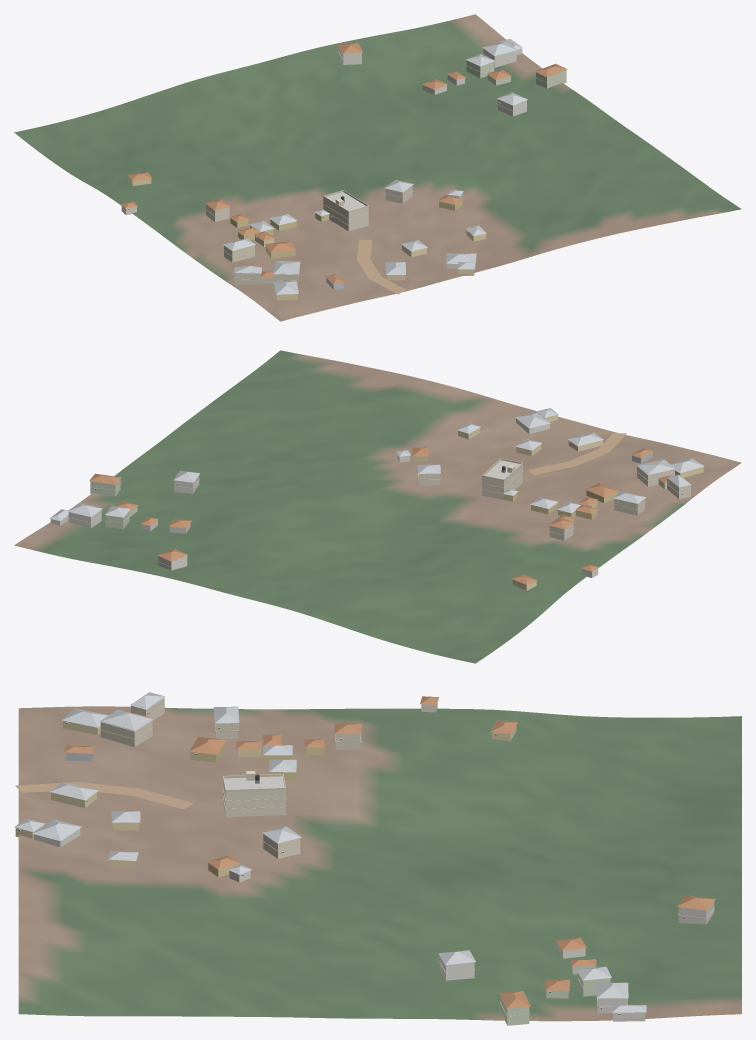
3 views of the same model, one above another, from view 1: azimuth 30°, elevation 25°; view 2: azimuth 150°, elevation 25°; view 3: azimuth 270°, elevation 25° (orthographic). The views are drawn at different scales.
Visible parts, largest first — view 1: Terrain-col, Buildings-col, Roads-col, Details; view 2: Terrain-col, Buildings-col, Roads-col, Details; view 3: Terrain-col, Buildings-col, Roads-col, Details.
Boxes of the visible parts, x1,y1,x2,y2 form: Terrain-col: (14,14,741,321); Buildings-col: (121,39,567,300); Roads-col: (357,239,405,294); Details: (127,51,566,294); Terrain-col: (14,350,741,663); Buildings-col: (49,408,704,590); Roads-col: (528,433,626,475); Details: (68,428,690,567); Terrain-col: (18,706,741,1021); Buildings-col: (14,692,715,1025); Roads-col: (15,782,193,809); Details: (18,705,714,1016).
Bounding box in the file's own units: 263 × 16.74 × 258.
